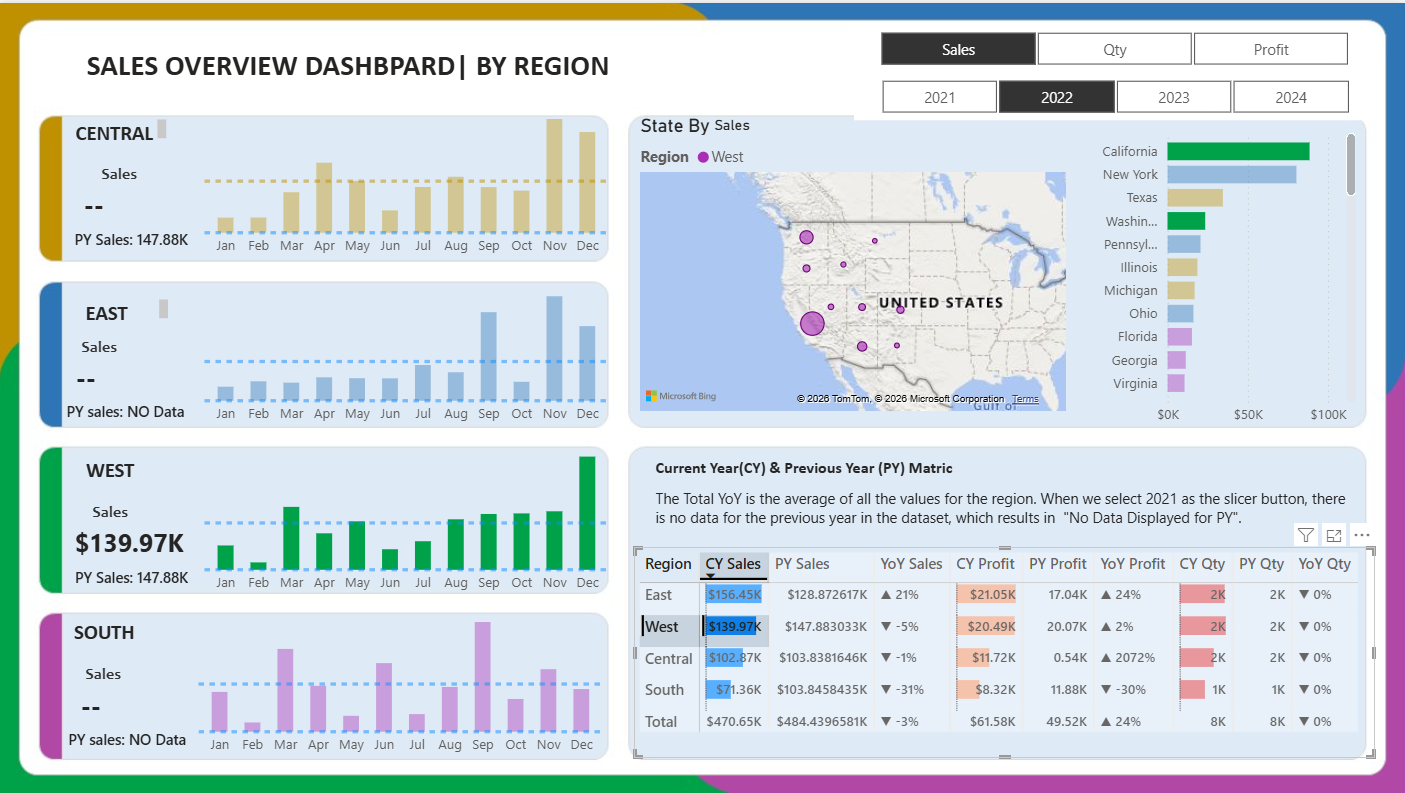

What the dashboard file says about the page in this screenshot:
{"tool":"powerbi","page":{"name":"Sales ODBR","canvas":[1280,720],"ordinal":0},"visuals":[{"type":"textbox","box":[61.2,101.1,96.7,29.3],"z":0},{"type":"slicer","fields":{"Values":["Calendar Table.Year"]},"box":[778.1,63.2,473.7,42.8],"z":1000},{"type":"slicer","fields":{"Values":["Select Matric.Select Matric"]},"box":[777.6,20.4,474.4,42.6],"z":2000},{"type":"cardVisual","fields":{"Data":["Sales Data.Total Sales"]},"box":[61.2,142.8,134.8,67.4],"z":3000},{"type":"card","fields":{"Values":["Sales Data.Dynamic Title"]},"box":[61.2,142.8,98.4,25.7],"z":4000},{"type":"card","fields":{"Values":["Sales Data.PY KPI Sales"]},"box":[54.1,203.9,134.8,26.6],"z":5000},{"type":"clusteredColumnChart","fields":{"Y":["Sales Data.Total Sales"],"Category":["Calendar Table.Month"]},"box":[182.7,85.1,377.7,153.4],"z":6000},{"type":"textbox","box":[54.1,35.5,529.4,65.6],"z":7000},{"type":"textbox","box":[44.3,264.2,115.3,29.3],"z":8000},{"type":"cardVisual","fields":{"Data":["Sales Data.Total Sales"]},"box":[54.1,299.7,134.8,67.4],"z":9000},{"type":"card","fields":{"Values":["Sales Data.Dynamic Title"]},"box":[42.6,299.7,98.4,25.7],"z":10000},{"type":"card","fields":{"Values":["Sales Data.PY KPI Sales"]},"box":[42.6,360,146.3,26.6],"z":11000},{"type":"clusteredColumnChart","fields":{"Y":["Sales Data.Total Sales"],"Category":["Calendar Table.Month"]},"box":[182.7,238.5,377.7,153.4],"z":12000},{"type":"textbox","box":[48.1,421.3,115.3,29.3],"z":13000},{"type":"cardVisual","fields":{"Data":["Sales Data.Total Sales"]},"box":[52.3,450.4,134.8,67.4],"z":14000},{"type":"card","fields":{"Values":["Sales Data.Dynamic Title"]},"box":[52.3,450.4,98.4,25.7],"z":15000},{"type":"card","fields":{"Values":["Sales Data.PY KPI Sales"]},"box":[47.9,510.7,146.3,26.6],"z":16000},{"type":"clusteredColumnChart","fields":{"Y":["Sales Data.Total Sales"],"Category":["Calendar Table.Month"]},"box":[182.7,391.9,377.7,153.4],"z":17000},{"type":"textbox","box":[54.1,407.9,96.7,42.6],"z":18000},{"type":"cardVisual","fields":{"Data":["Sales Data.Total Sales"]},"box":[58.4,598.2,135.2,67.1],"z":19000},{"type":"card","fields":{"Values":["Sales Data.Dynamic Title"]},"box":[46.8,597.6,98.4,25.7],"z":20000},{"type":"card","fields":{"Values":["Sales Data.PY KPI Sales"]},"box":[44.7,658.5,145.9,27.2],"z":21000},{"type":"clusteredColumnChart","fields":{"Y":["Sales Data.Total Sales"],"Category":["Calendar Table.Month"]},"box":[177.1,539.1,377.7,153.4],"z":22000},{"type":"textbox","box":[48.5,555,96.7,42.6],"z":23000},{"type":"map","title":"State By","fields":{"Size":["Sales Data.Total Sales"],"Category":["Sales Data.State/Province"],"Series":["Sales Data.Region"]},"box":[579,101.1,397.2,275.8],"z":24000},{"type":"card","fields":{"Values":["Sales Data.DY_map"]},"box":[583.4,69.2,167.6,86.9],"z":25000},{"type":"barChart","fields":{"Y":["Sales Data.Total Sales"],"Category":["Sales Data.State/Province"],"Series":["Sales Data.Region"]},"box":[986.9,105.5,251.8,286.4],"z":26000},{"type":"pivotTable","fields":{"Rows":["Sales Data.Region"],"Values":["Sales Data.CY Sales","Sales Data.PY Sales","Sales Data.YoY Sales","Sales Data.CY Profit","Sales Data.PY Profit","Sales Data.YoY Profit","Sales Data.CY Qty","Sales Data.PY Qty","Sales Data.YoY Qty"]},"box":[578.1,494.8,673.9,191.5],"z":27000},{"type":"textbox","box":[592.7,408.2,434.5,28.2],"z":30000},{"type":"textbox","box":[592.7,436.4,646.4,48.2],"z":30001}]}

Visuals, with their boxes in screenshot pixels (x1, y1, x2, y2), scaled from the page's 1280x720 canvas onto the 1405x793 screenshot:
textbox: bbox=[67, 111, 173, 144]
slicer - Calendar Table.Year: bbox=[854, 70, 1374, 117]
slicer - Select Matric.Select Matric: bbox=[854, 22, 1374, 69]
cardVisual - Sales Data.Total Sales: bbox=[67, 157, 215, 232]
card - Sales Data.Dynamic Title: bbox=[67, 157, 175, 186]
card - Sales Data.PY KPI Sales: bbox=[59, 225, 207, 254]
clusteredColumnChart - Sales Data.Total Sales x Calendar Table.Month: bbox=[201, 94, 615, 263]
textbox: bbox=[59, 39, 640, 111]
textbox: bbox=[49, 291, 175, 323]
cardVisual - Sales Data.Total Sales: bbox=[59, 330, 207, 404]
card - Sales Data.Dynamic Title: bbox=[47, 330, 155, 358]
card - Sales Data.PY KPI Sales: bbox=[47, 397, 207, 426]
clusteredColumnChart - Sales Data.Total Sales x Calendar Table.Month: bbox=[201, 263, 615, 432]
textbox: bbox=[53, 464, 179, 496]
cardVisual - Sales Data.Total Sales: bbox=[57, 496, 205, 570]
card - Sales Data.Dynamic Title: bbox=[57, 496, 165, 524]
card - Sales Data.PY KPI Sales: bbox=[53, 562, 213, 592]
clusteredColumnChart - Sales Data.Total Sales x Calendar Table.Month: bbox=[201, 432, 615, 601]
textbox: bbox=[59, 449, 166, 496]
cardVisual - Sales Data.Total Sales: bbox=[64, 659, 213, 733]
card - Sales Data.Dynamic Title: bbox=[51, 658, 159, 686]
card - Sales Data.PY KPI Sales: bbox=[49, 725, 209, 755]
clusteredColumnChart - Sales Data.Total Sales x Calendar Table.Month: bbox=[194, 594, 609, 763]
textbox: bbox=[53, 611, 159, 658]
"State By" map: bbox=[636, 111, 1072, 415]
card - Sales Data.DY_map: bbox=[640, 76, 824, 172]
barChart - Sales Data.Total Sales x Sales Data.State/Province: bbox=[1083, 116, 1360, 432]
pivotTable - Sales Data.Region x Sales Data.CY Sales: bbox=[635, 545, 1374, 756]
textbox: bbox=[651, 450, 1128, 481]
textbox: bbox=[651, 481, 1360, 534]
